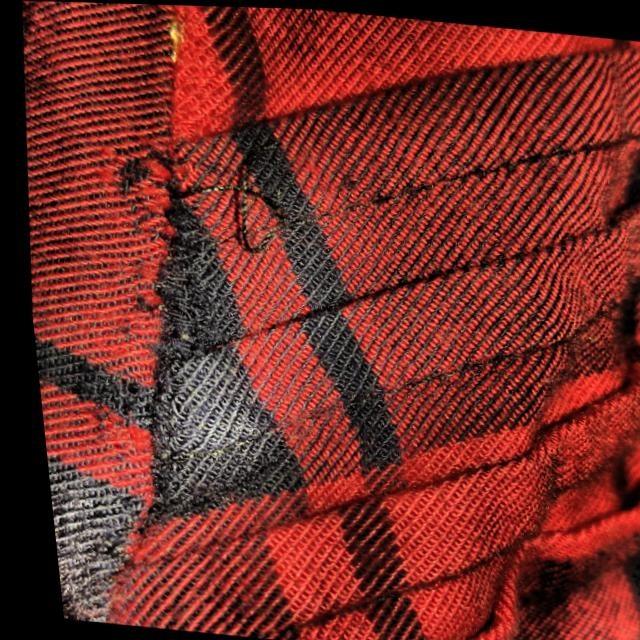Stitch: (75, 104, 320, 399)
